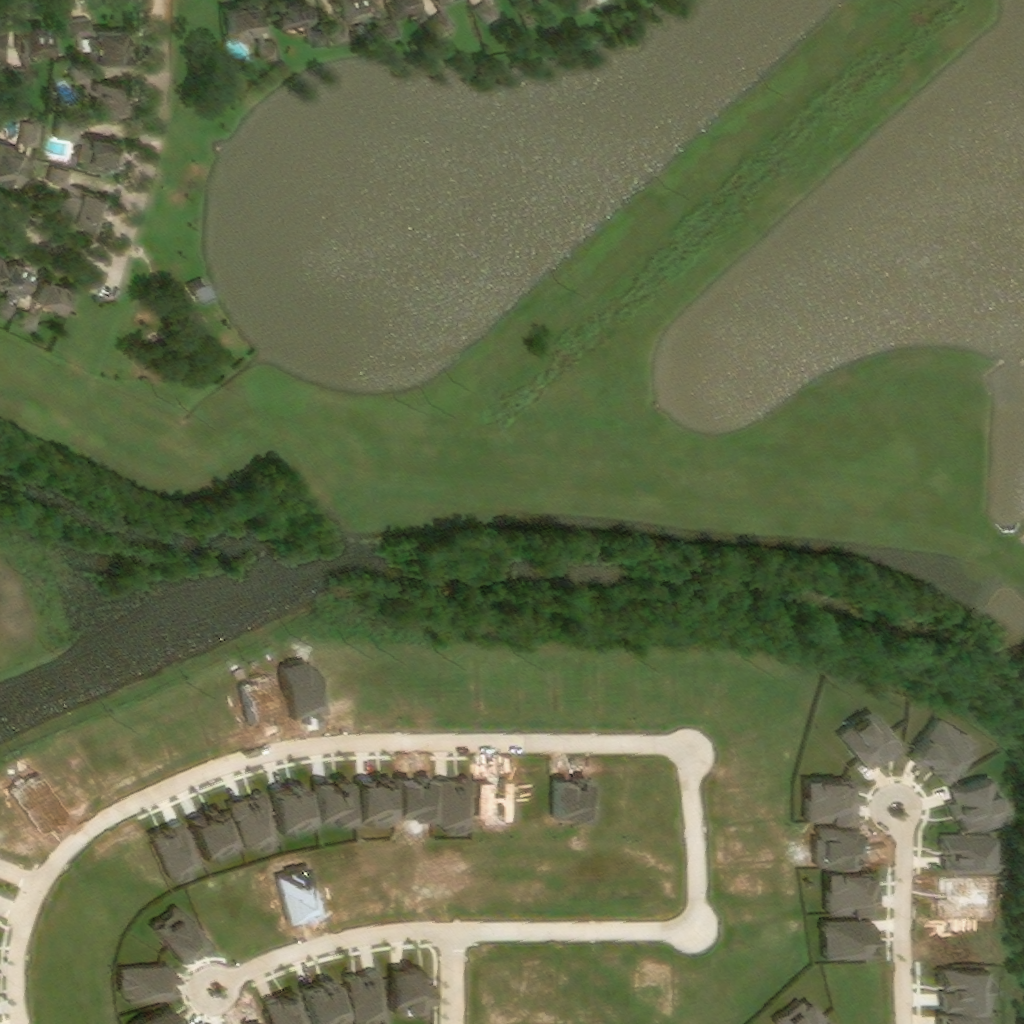no_damage: (913, 718, 976, 783), (844, 710, 905, 771), (52, 169, 110, 229), (190, 804, 243, 867), (949, 775, 1005, 833), (228, 1, 282, 61), (230, 790, 280, 854), (271, 781, 318, 839), (0, 127, 45, 186), (279, 1, 332, 51), (946, 967, 998, 1015), (830, 869, 882, 917), (807, 777, 860, 824), (73, 22, 128, 67), (306, 973, 355, 1023), (350, 972, 396, 1023), (120, 969, 180, 1006), (397, 962, 433, 1022), (316, 775, 355, 829), (360, 775, 396, 830), (387, 0, 429, 42), (83, 140, 125, 179), (773, 999, 834, 1023), (270, 991, 314, 1023), (41, 279, 78, 317), (98, 85, 128, 124), (4, 262, 35, 299), (20, 21, 50, 57), (339, 0, 380, 22), (135, 1005, 182, 1023), (59, 119, 87, 146), (480, 0, 506, 28), (437, 17, 464, 43), (193, 279, 217, 307), (1, 300, 24, 327), (995, 481, 1016, 508), (946, 1014, 999, 1023), (571, 0, 601, 15), (519, 0, 547, 15), (334, 28, 354, 46), (0, 23, 17, 44), (26, 315, 44, 334), (77, 68, 93, 88), (15, 77, 37, 90), (440, 0, 461, 5)
unclassified: (228, 358, 244, 372)
